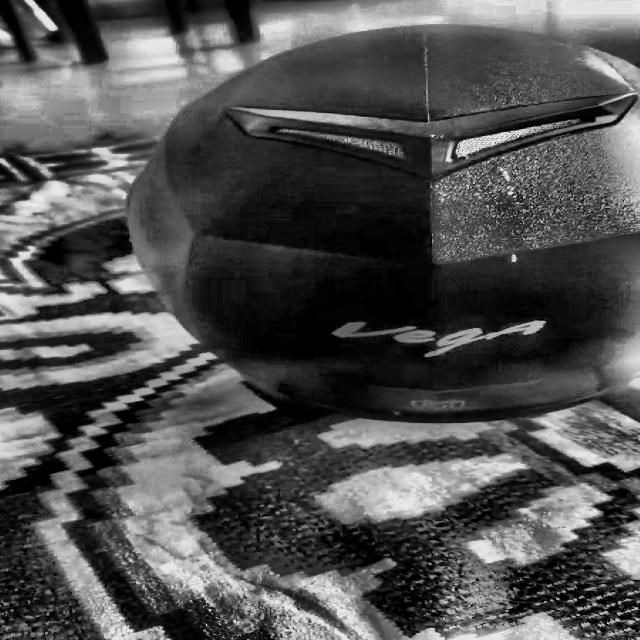Helmet: (123, 18, 640, 426)
